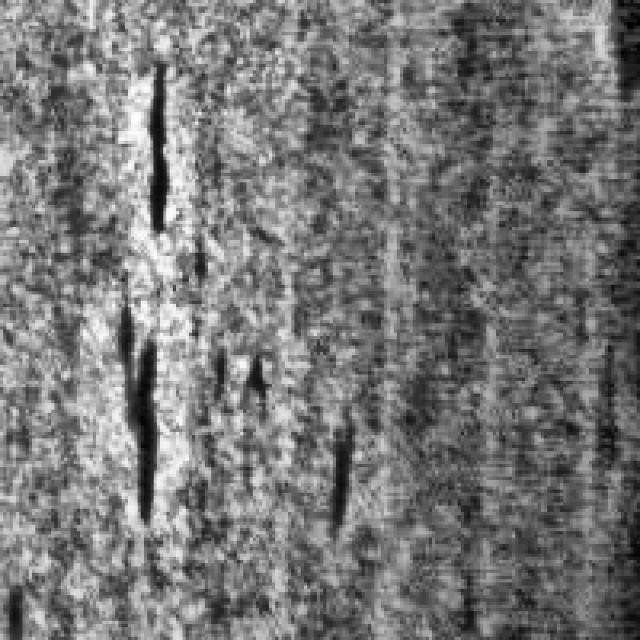Patches: (109, 298, 157, 522), (134, 51, 176, 234), (317, 396, 368, 534), (202, 336, 268, 403)
